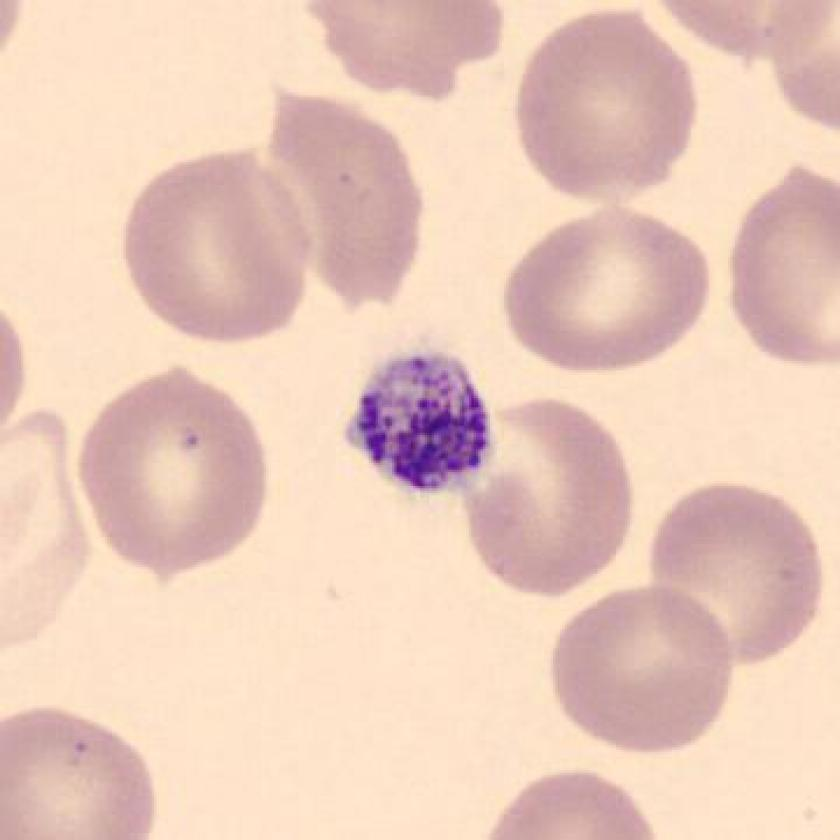platelets: (337, 344, 505, 499)
